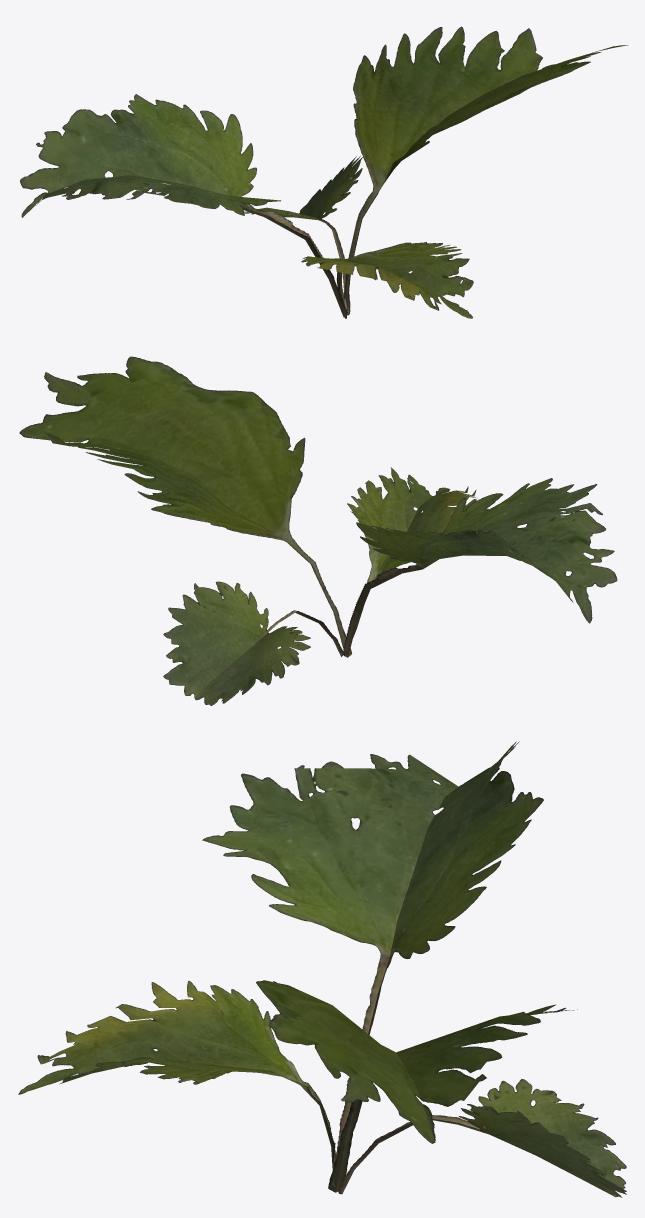
File: nettle_plant_small_b_LOD1.glb
3 renders of one model, top to bottom at view 1: azimuth 30°, elevation 25°; view 2: azimuth 150°, elevation 25°; view 3: azimuth 270°, elevation 25°, orthographic. The views are drawn at different scales.
Parts seen in each view (by area): view 1: nettle_plant_small_b_LOD1__lod0; view 2: nettle_plant_small_b_LOD1__lod0; view 3: nettle_plant_small_b_LOD1__lod0.
Boxes of the visible parts, x1,y1,x2,y2 form: nettle_plant_small_b_LOD1__lod0: (20, 26, 627, 318); nettle_plant_small_b_LOD1__lod0: (19, 356, 617, 705); nettle_plant_small_b_LOD1__lod0: (18, 741, 626, 1197).
Size of what is drawn, in the model's own units: 0.0608 by 0.0221 by 0.0386.
1 material, 1 textured.
